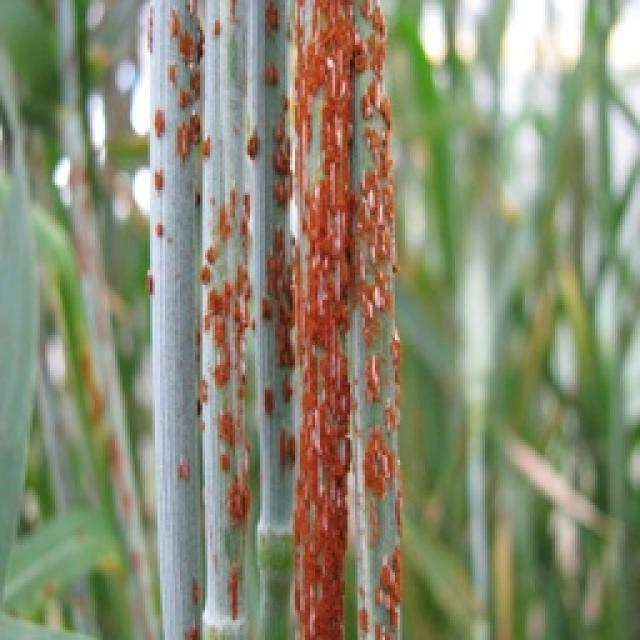Black Rust: (145, 0, 405, 638)
